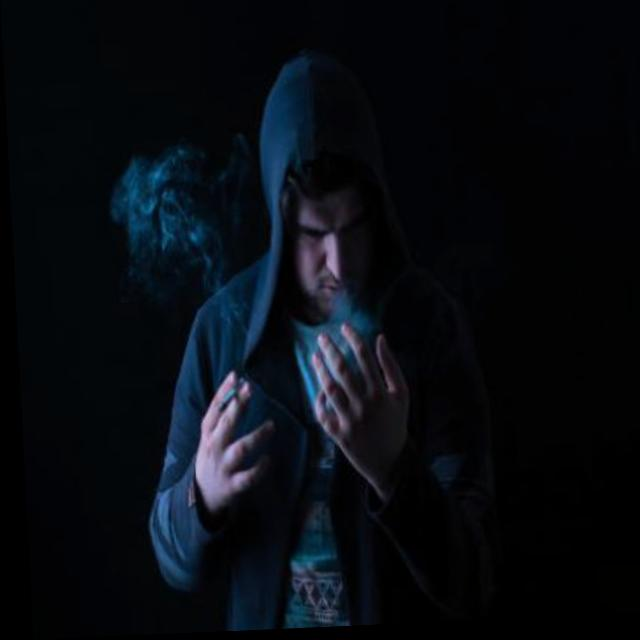cigarette: (211, 379, 244, 417)
